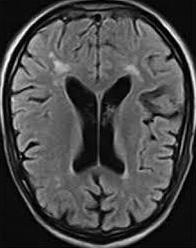Normal_Brain: (1, 1, 195, 248)
